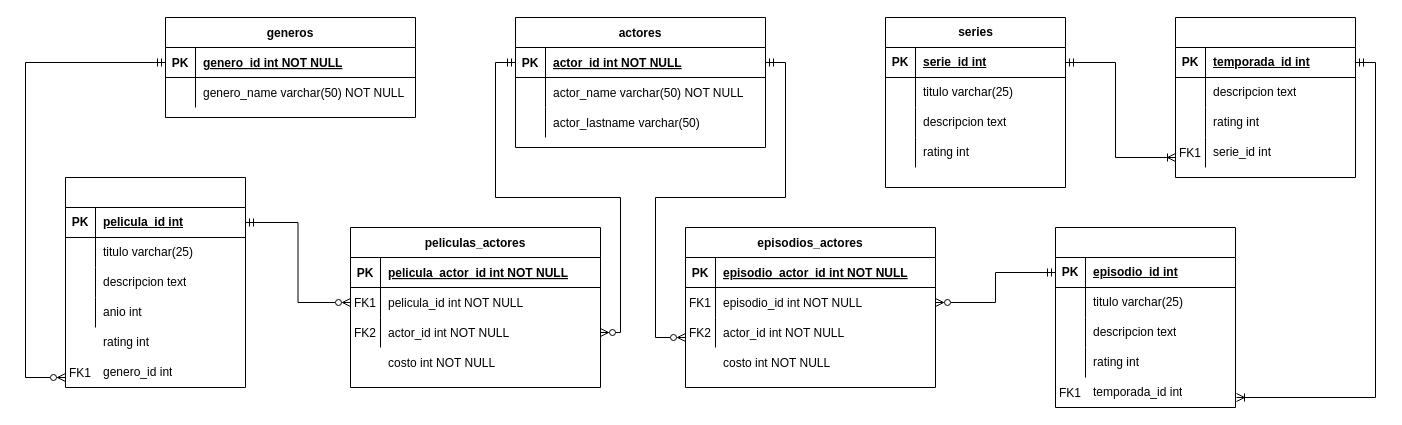
Image size: 1402x425. Some labels were removed from this diagram. Each missing label, with the box of its shape:
episodios: (1054, 226, 1236, 408)
peliculas: (64, 176, 246, 388)
temporadas: (1174, 16, 1356, 178)
